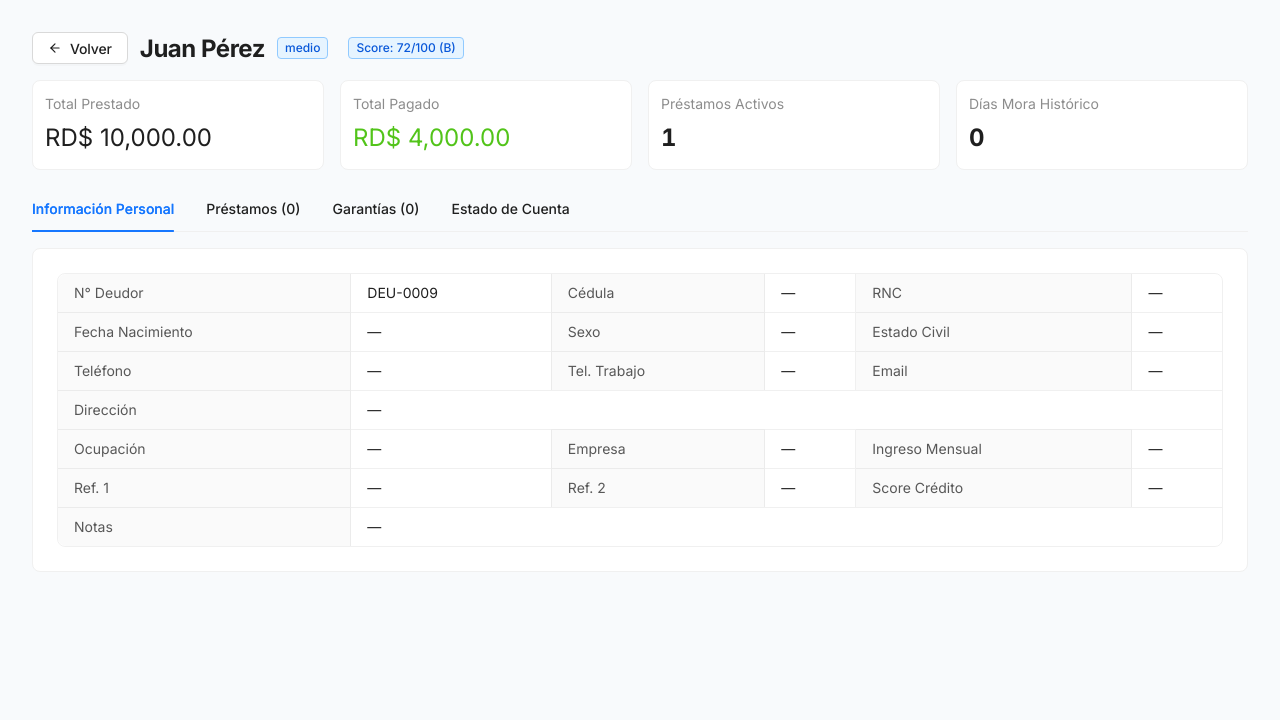
Scenario: FichaDeudorPage — badge de score (Etapa 7) › al hacer click despliega el desglose de los 5 factores con sus puntos
Click the text "Score: 72/100 (B)" at (406, 48), box [348,37,464,59]
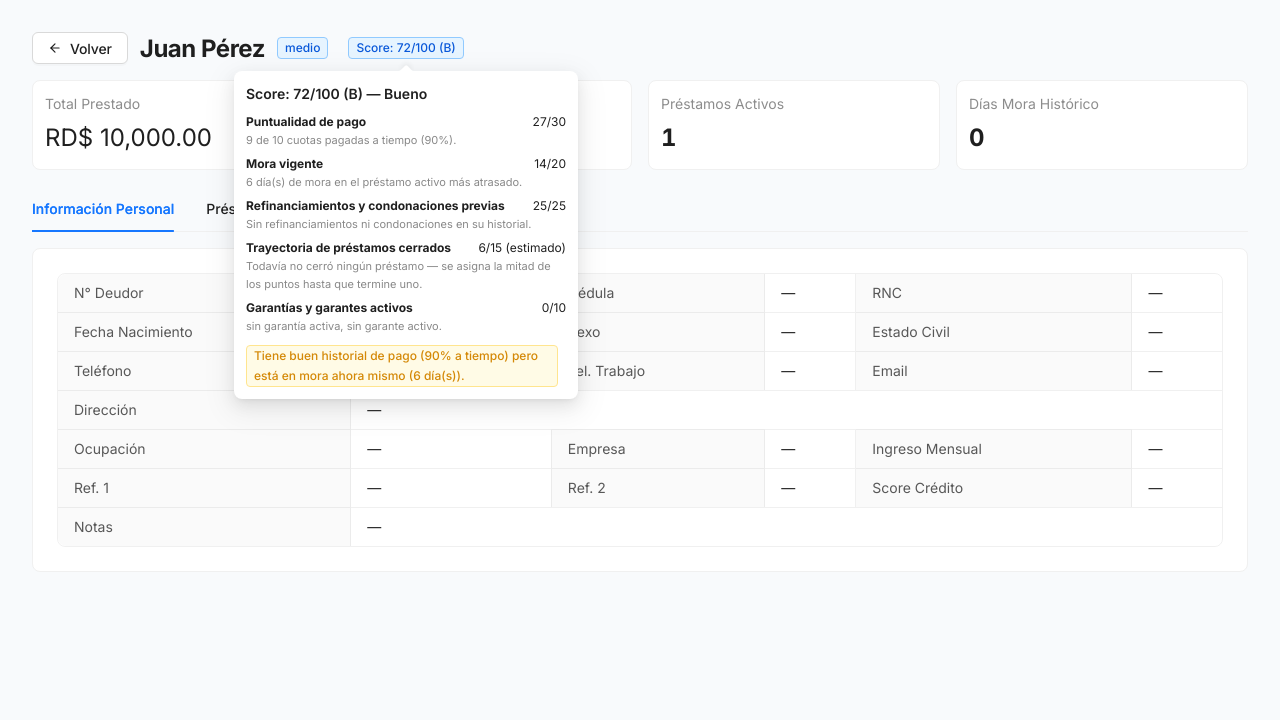
Expected: the text "Puntualidad de pago" is shown, [246,113,366,132]
Expected: the text "27/30" is shown, [533,113,566,132]
Expected: the text "9 de 10 cuotas pagadas a tiempo (90%)." is shown, [246,133,456,147]
